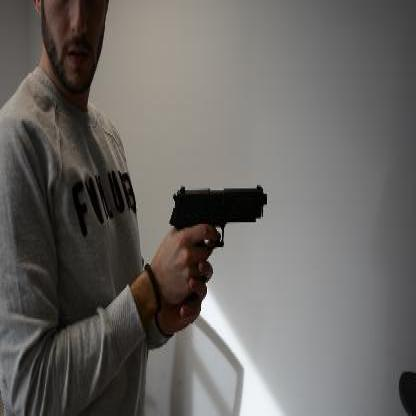pistol: (168, 183, 266, 251)
